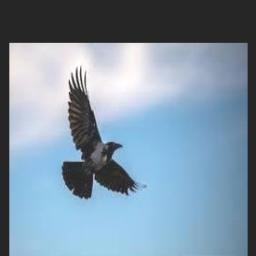Crow: (62, 66, 147, 199)
